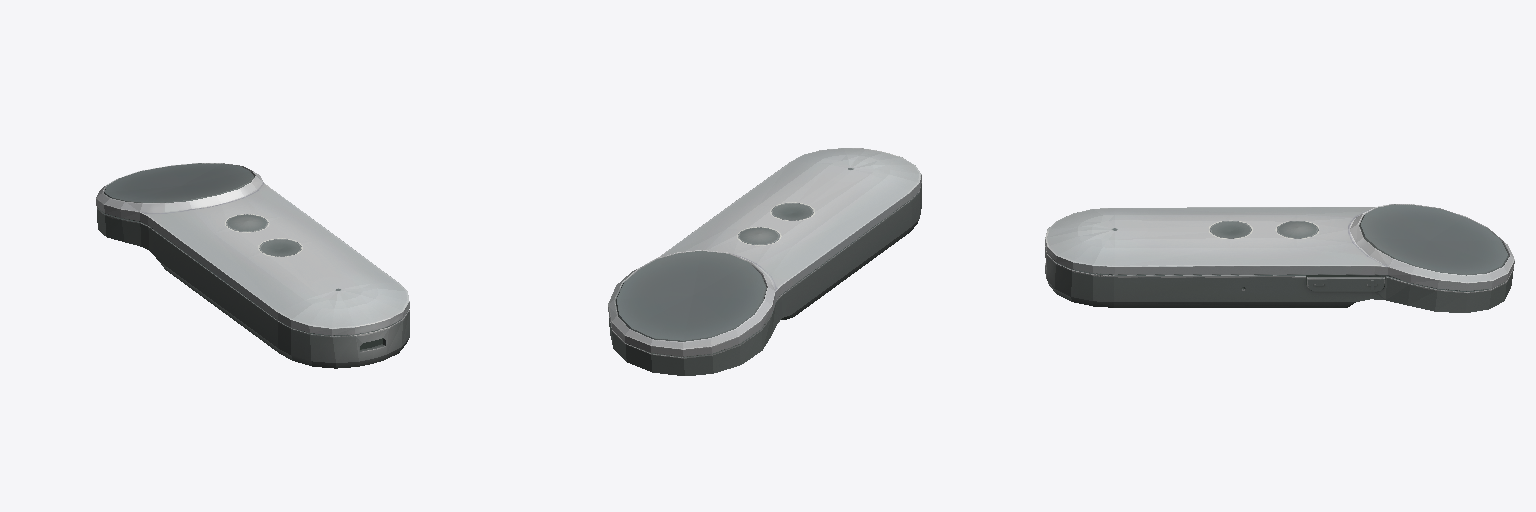
The picture shows the model from 3 angles: view 1: azimuth 30°, elevation 25°; view 2: azimuth 150°, elevation 25°; view 3: azimuth 270°, elevation 25°; orthographic projection.
Visible parts, largest first — view 1: housing_bott; view 2: housing_bott; view 3: housing_bott.
Part boxes in pixels (left/top/right/bottom): housing_bott: left=96, top=163, right=409, bottom=368; housing_bott: left=608, top=148, right=921, bottom=375; housing_bott: left=1045, top=204, right=1514, bottom=312.
Bounding box in the file's own units: 4.51 × 1.9 × 12.68.
Materials: 1 (1 with a texture image).